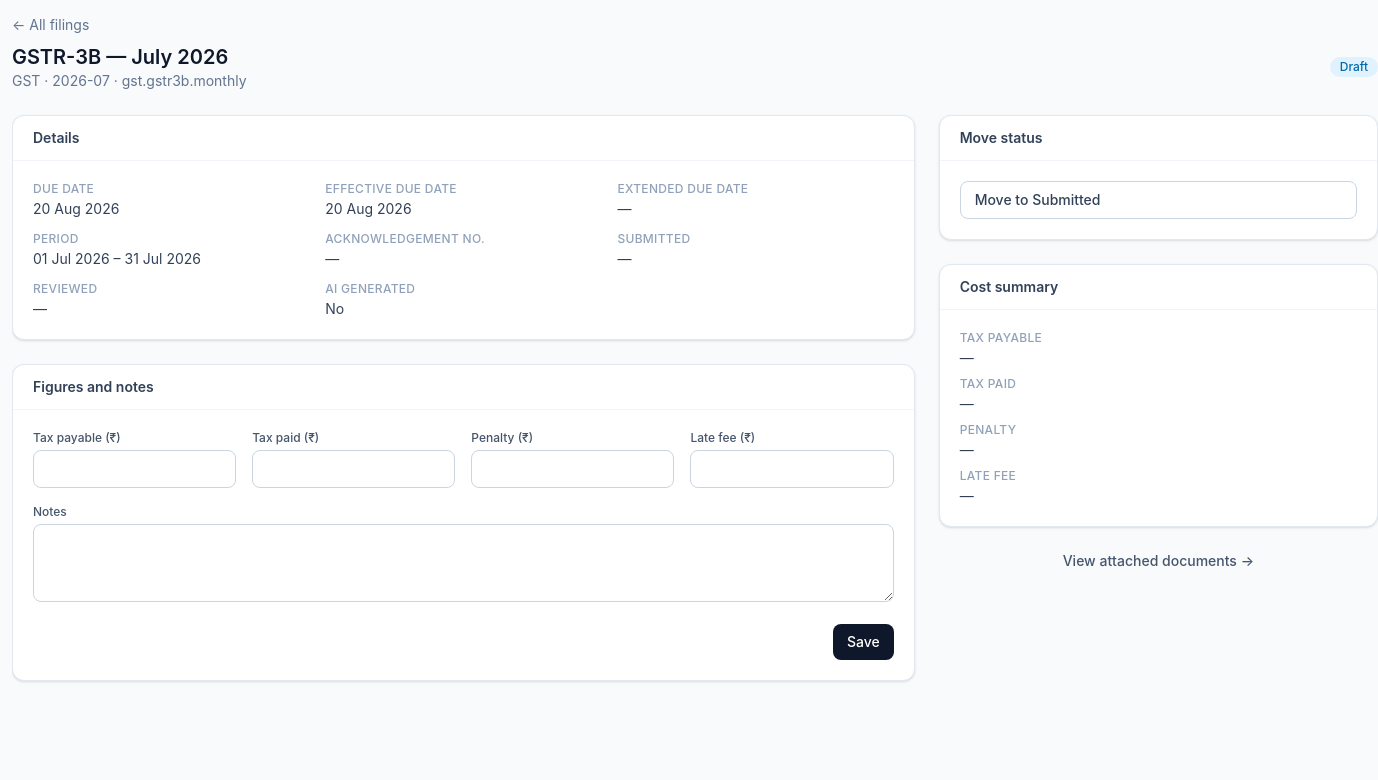
Test case: FilingDetailPage › surfaces the late-filed notice when the server records a submission as late
The width and height of the screenshot is (1378, 780).
Click the button "Move to Submitted": (1003, 200) [960,181,1357,219]
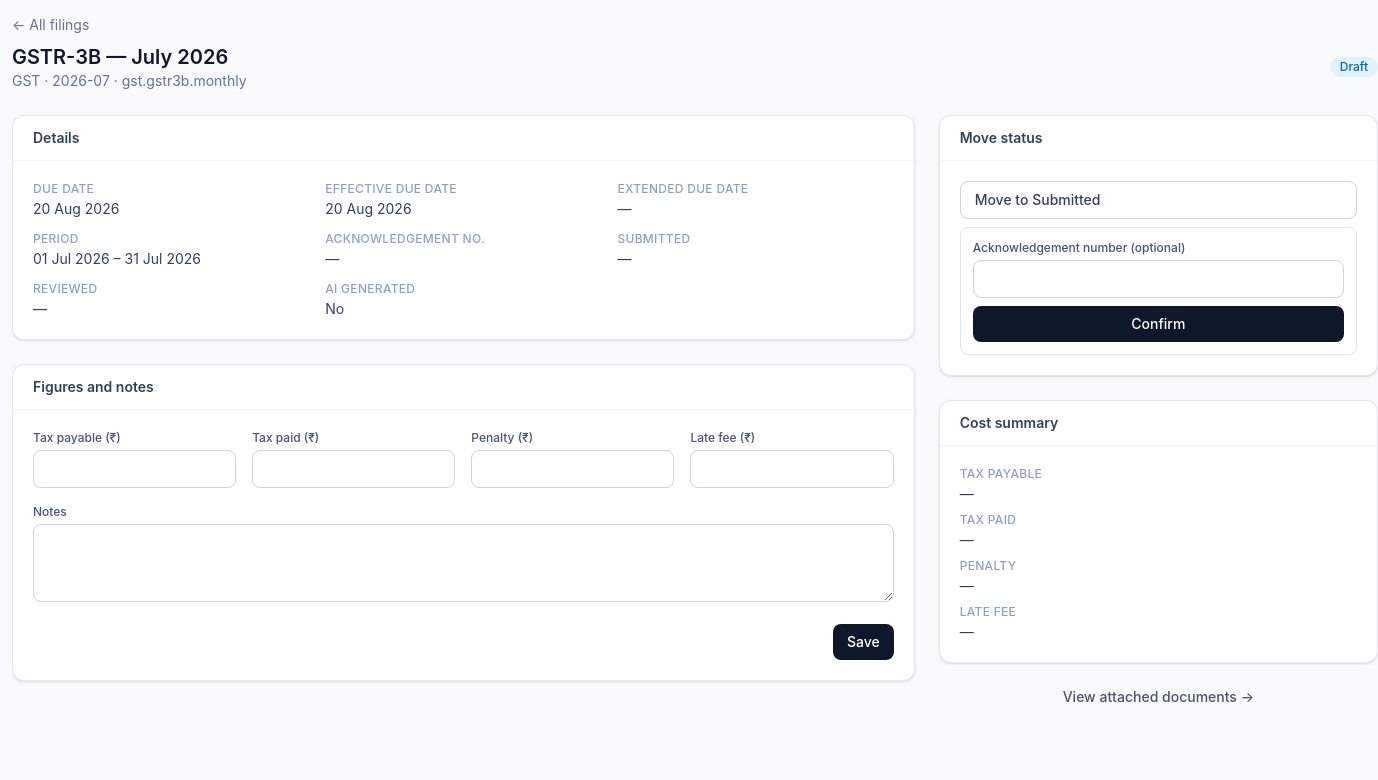
Click the button "Confirm": (1158, 324) [973,306,1344,342]
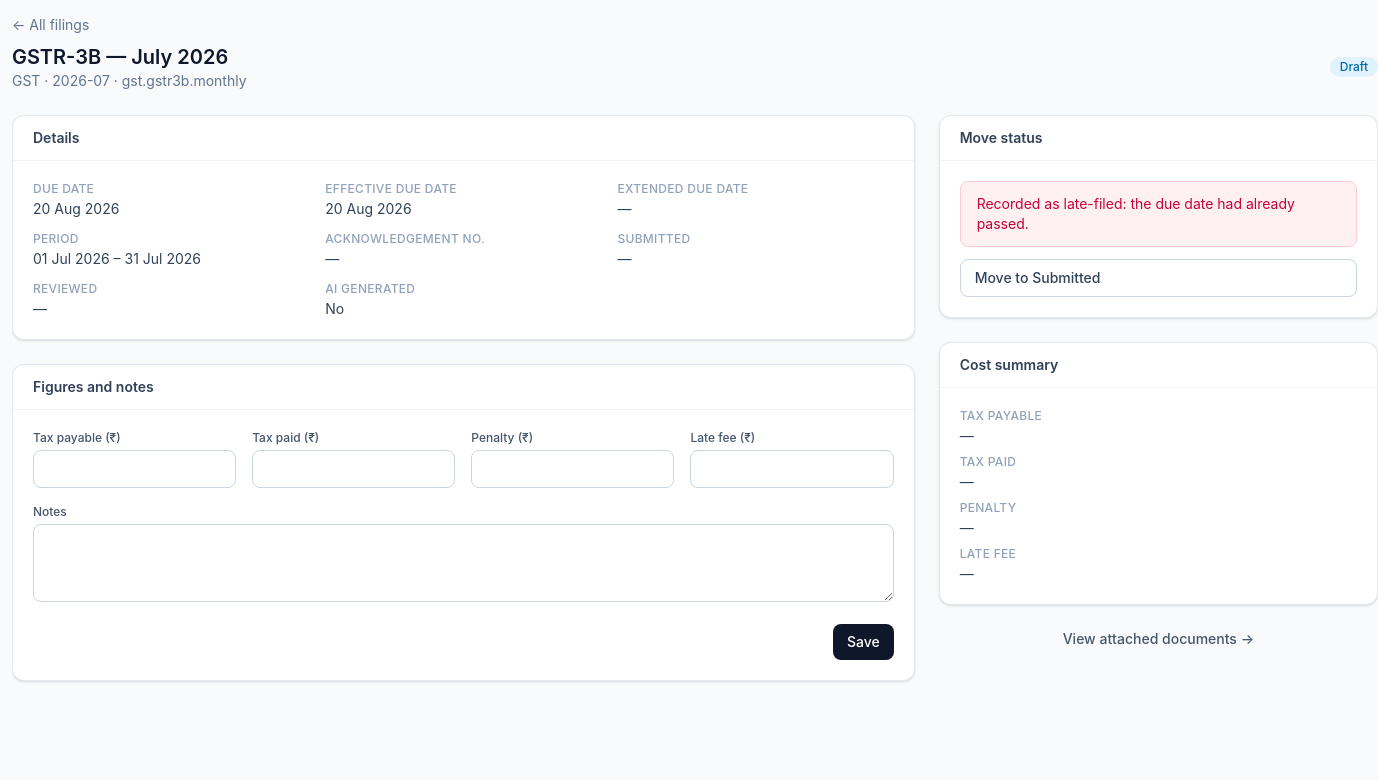
Check: the text "Recorded as late-filed: the due date had already passed." is shown, box [960,181,1357,247]
